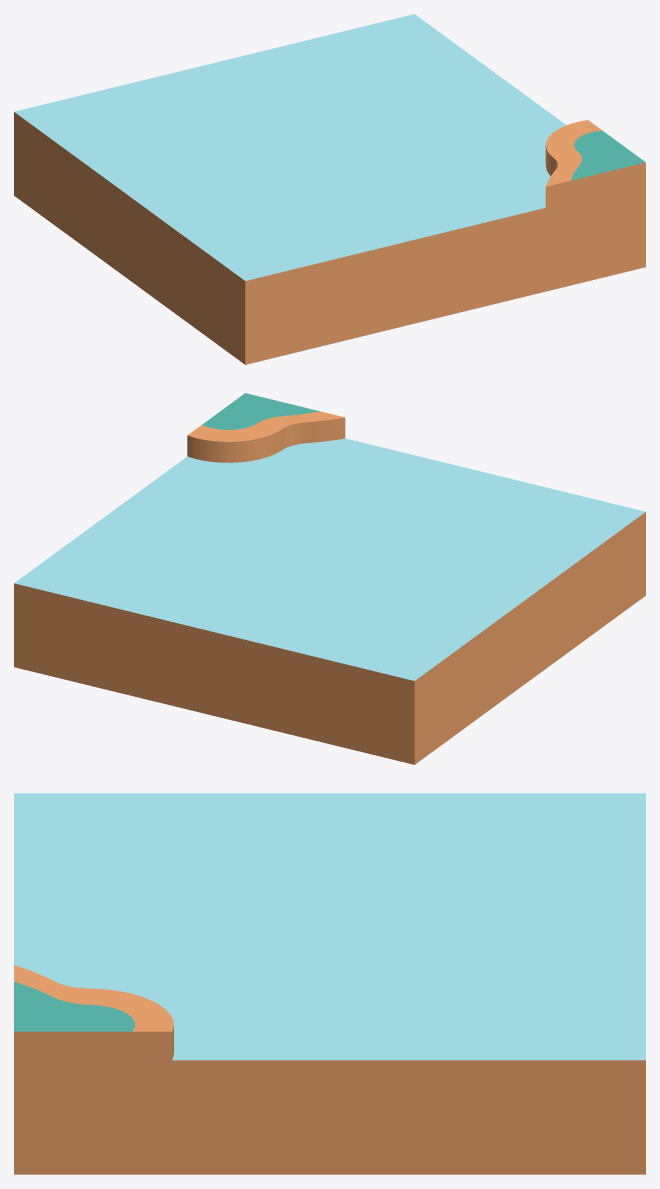
File: ground_dirtRiverCornerInner.fbx
3 renders of one model, top to bottom at view 1: azimuth 30°, elevation 25°; view 2: azimuth 150°, elevation 25°; view 3: azimuth 270°, elevation 25°, orthographic. The views are drawn at different scales.
Visible parts, largest first — view 1: ground_dirtRiverCornerInner; view 2: ground_dirtRiverCornerInner; view 3: ground_dirtRiverCornerInner.
Part boxes in pixels (x1,y1,x2,y2): ground_dirtRiverCornerInner: (14,14,645,364); ground_dirtRiverCornerInner: (14,393,645,764); ground_dirtRiverCornerInner: (14,793,645,1174).
Bounding box in the file's own units: 10 × 2.5 × 10.
